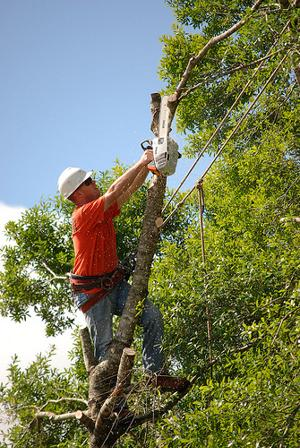person: (56, 148, 189, 394)
